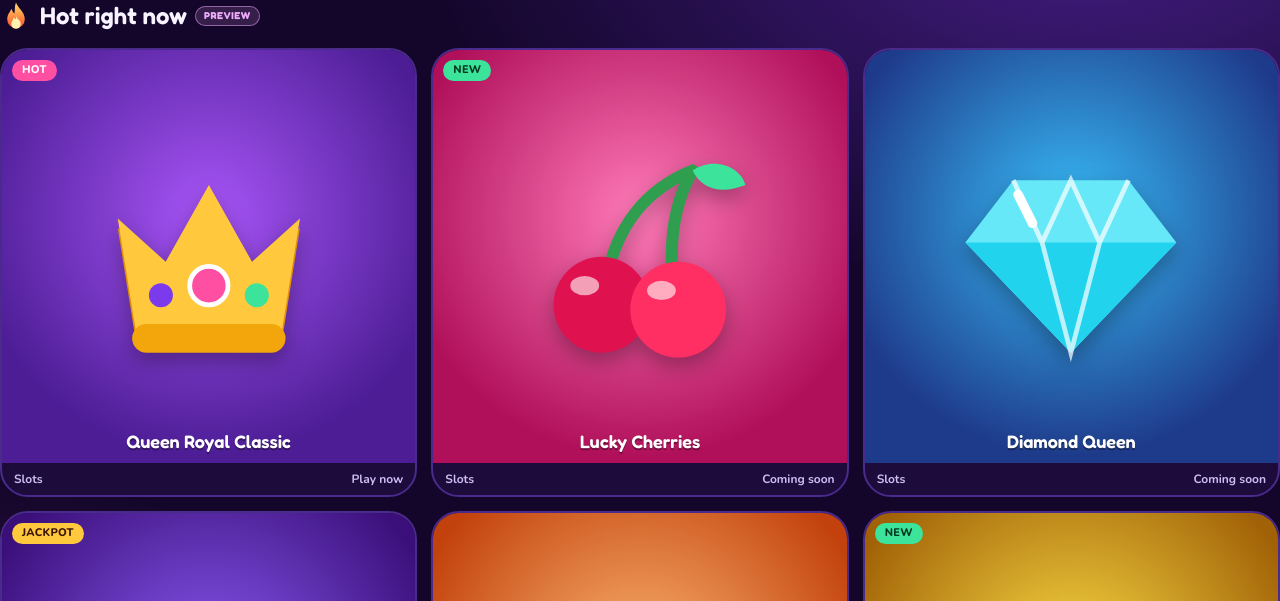
Test case: GameLobby › never fakes a game: a preview tile opens a 'coming soon' card, not a playable window
Step 1. Click the button "NEW Lucky Cherries Slots Coming soon" → point(640, 273), box [431,48,849,497]
Wait 1200 ms
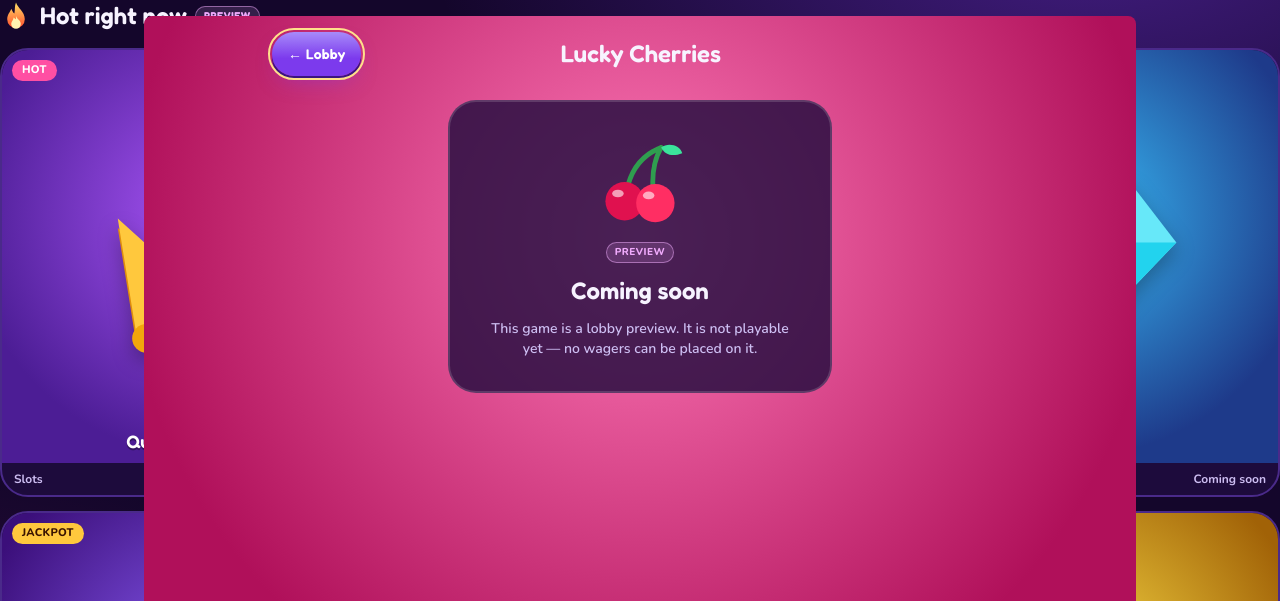
Expected: the 1st text "Coming soon" is shown, [571,265,709,297]
